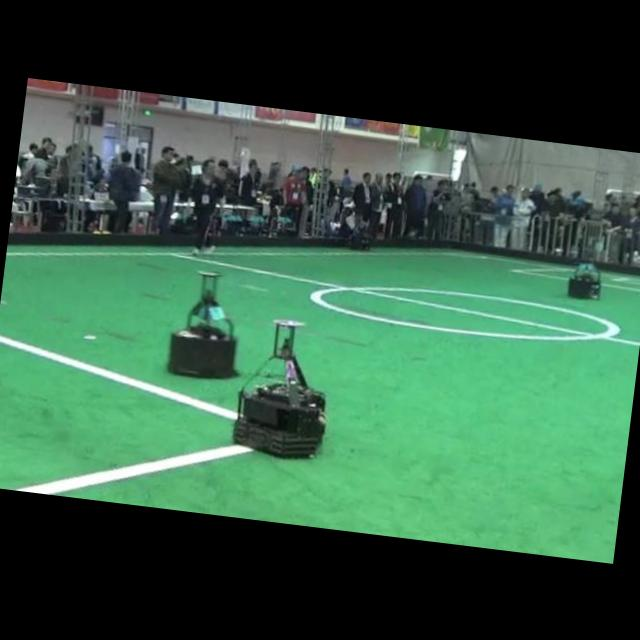robot: (233, 317, 325, 456), (167, 269, 236, 377), (568, 262, 600, 297)
